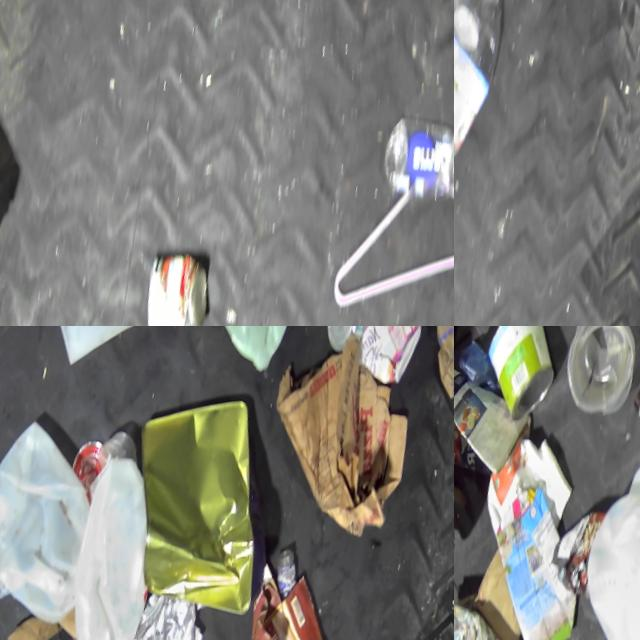can: (464, 326, 571, 430), (122, 244, 214, 326), (315, 326, 372, 354)
milk_jug: (34, 448, 178, 640), (0, 411, 113, 630), (546, 482, 640, 640), (593, 424, 640, 619), (25, 326, 165, 380), (183, 326, 305, 377)
plastic_bottle: (454, 0, 522, 170), (366, 109, 454, 212)
